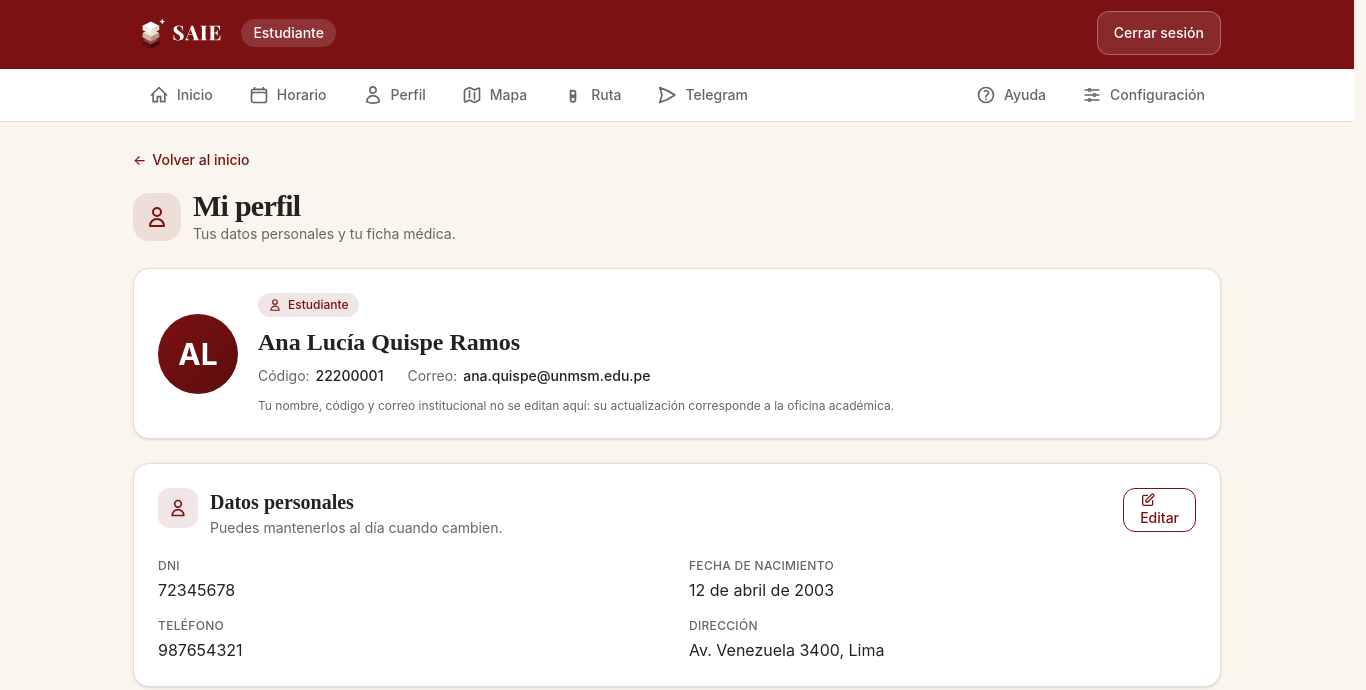
Test: PerfilAlumno (Issue 3.17) › edición de datos personales › no guarda si un dato es inválido y deja el error junto al campo
Click the button with aria-label "Editar datos personales" at (1160, 510), box [1123,488,1196,532]
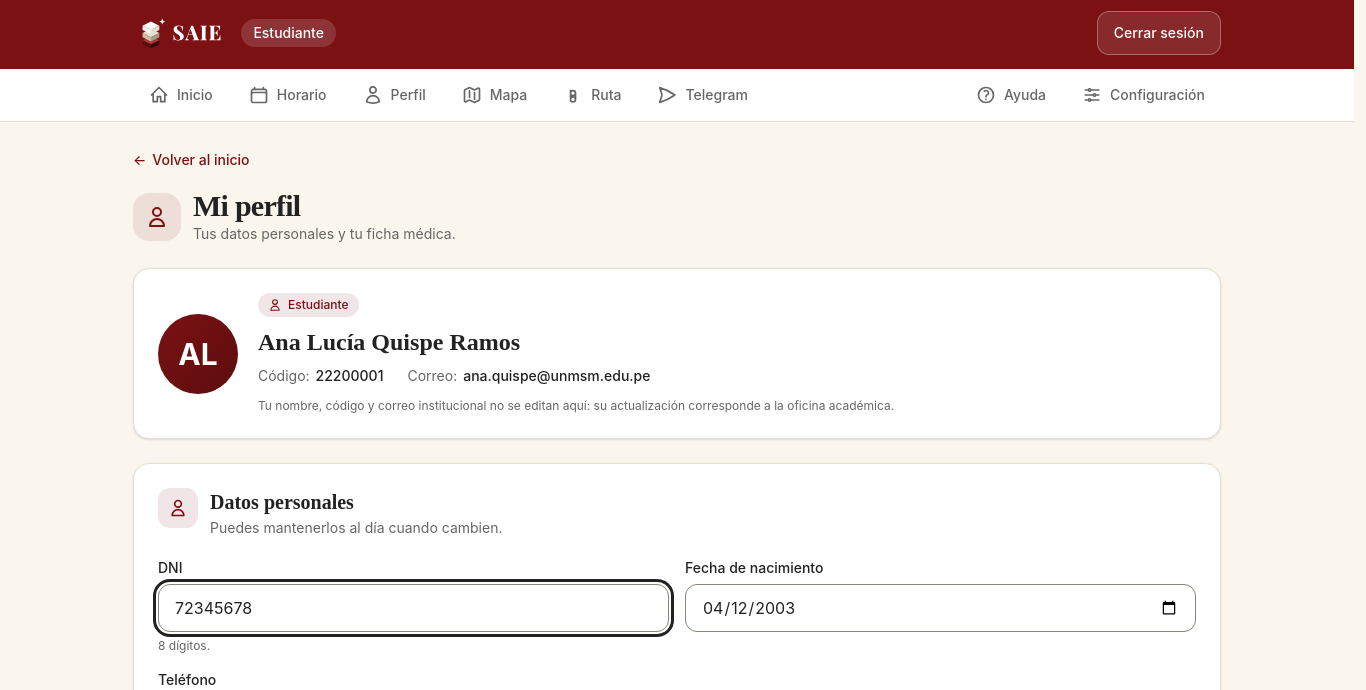
Replace the text in the field labelled "DNI" with "123" at (414, 608), box [158,584,669,632]
(page scrolled)
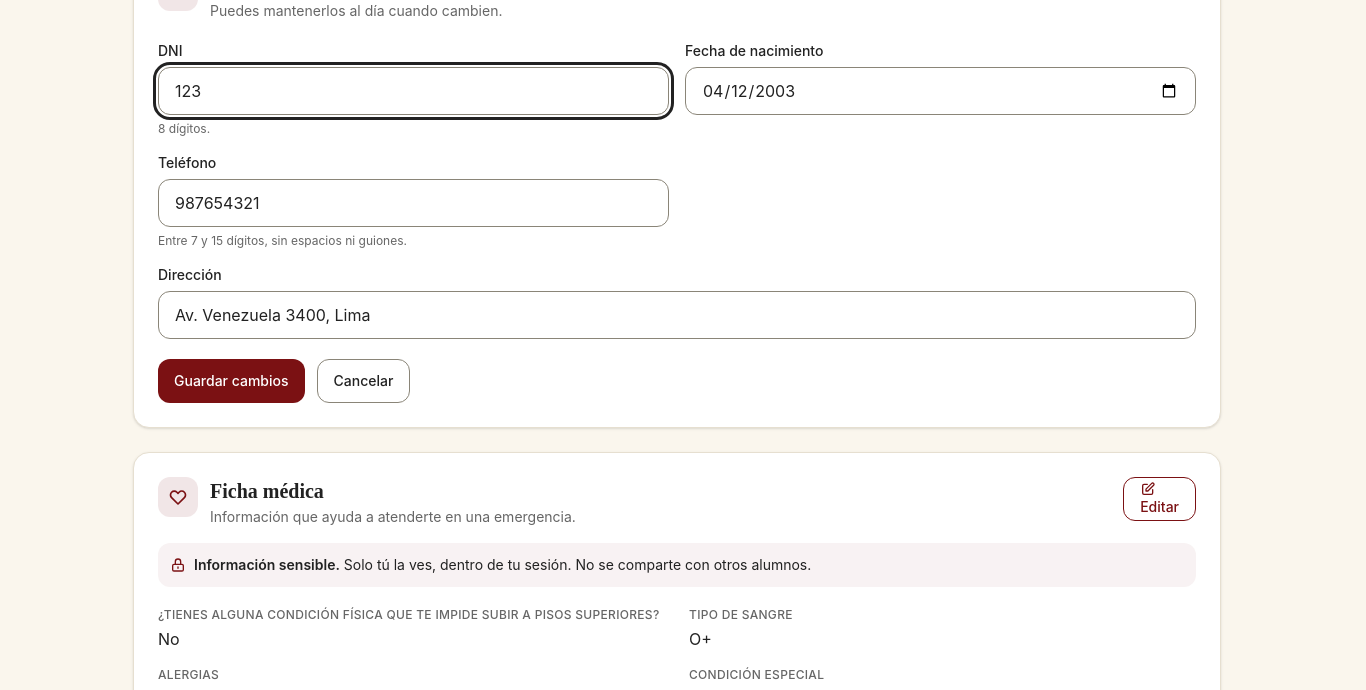
Click the button "Guardar cambios" at (231, 381), box [158,359,304,403]
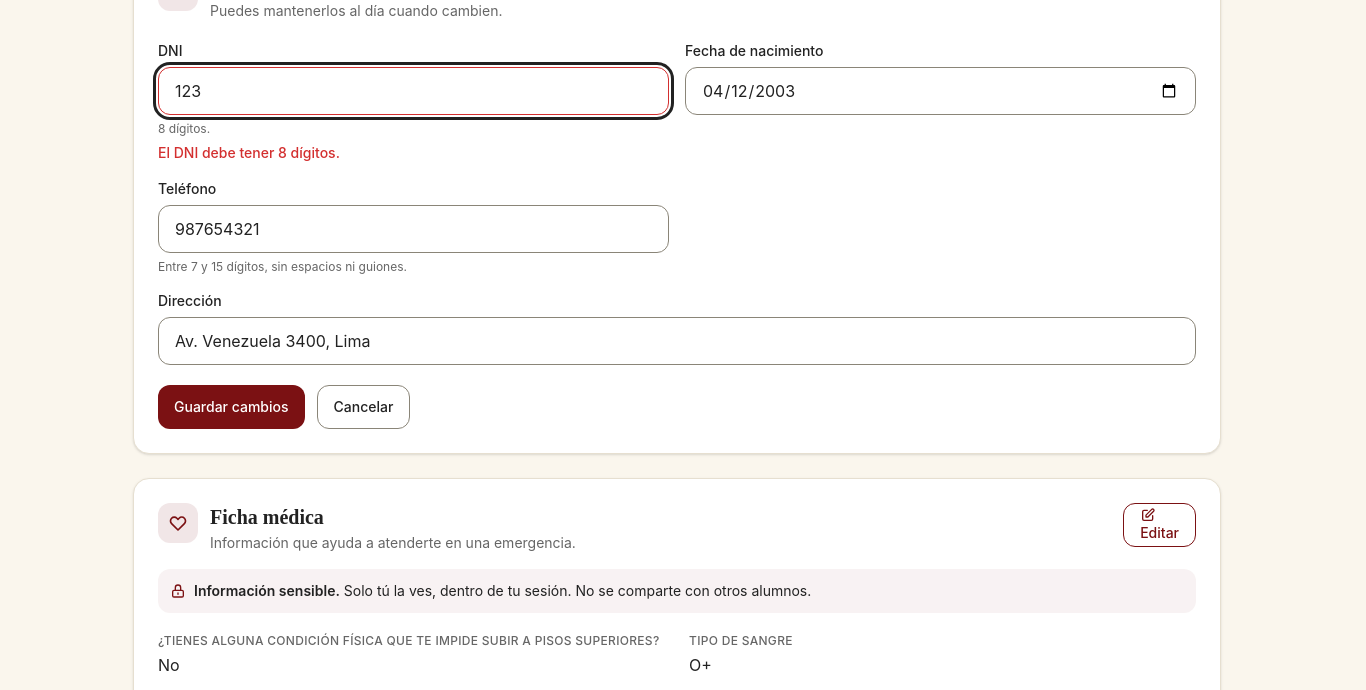
Check: the text "El DNI debe tener 8 dígitos." is shown, box [158,144,340,161]
// El error desaparece al corregir el campo.
Replace the text in the field labelled "DNI" with "12345678" at (414, 91), box [158,67,669,115]
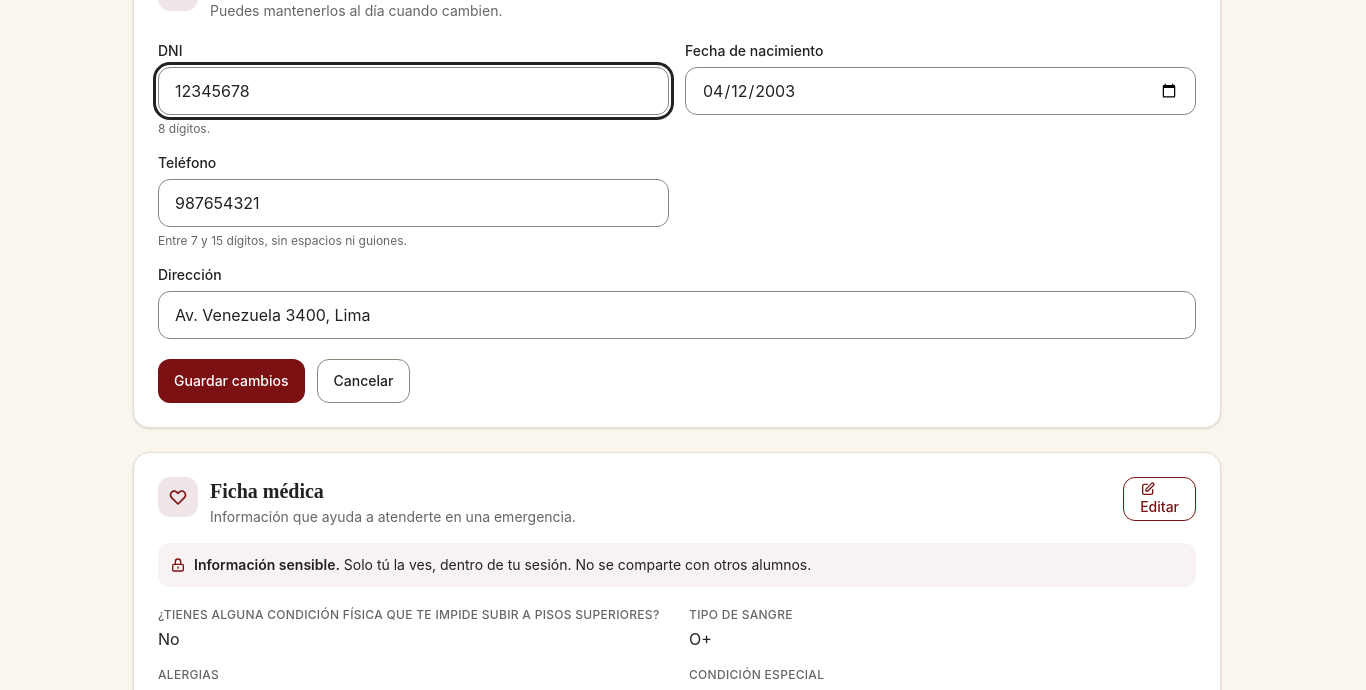
Check: the text "El DNI debe tener 8 dígitos." is gone
